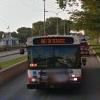buses: (21, 34, 85, 94)
